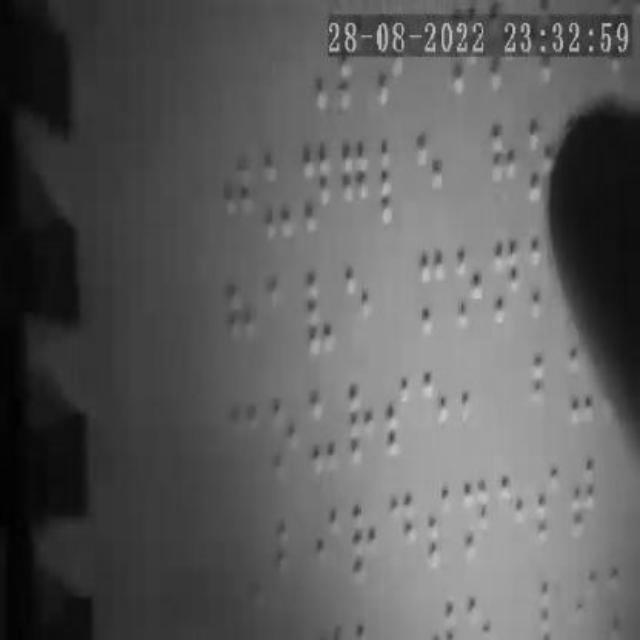braiile: (208, 152, 255, 258), (296, 142, 340, 245), (451, 231, 491, 343), (409, 237, 447, 346), (458, 352, 498, 452), (417, 359, 453, 469), (485, 120, 523, 224), (304, 260, 342, 362), (314, 503, 350, 607), (566, 450, 602, 554), (261, 383, 299, 481), (221, 390, 261, 482), (343, 372, 379, 472), (458, 475, 494, 575), (344, 258, 380, 356), (420, 480, 456, 578), (276, 509, 312, 607), (384, 484, 420, 580), (528, 348, 564, 444), (414, 133, 448, 234), (304, 384, 340, 478), (224, 272, 258, 370), (533, 462, 565, 566), (264, 268, 300, 360), (382, 371, 416, 467), (262, 150, 294, 252), (493, 238, 525, 339), (378, 132, 410, 232), (497, 470, 529, 568), (340, 143, 370, 247), (351, 498, 381, 598)
